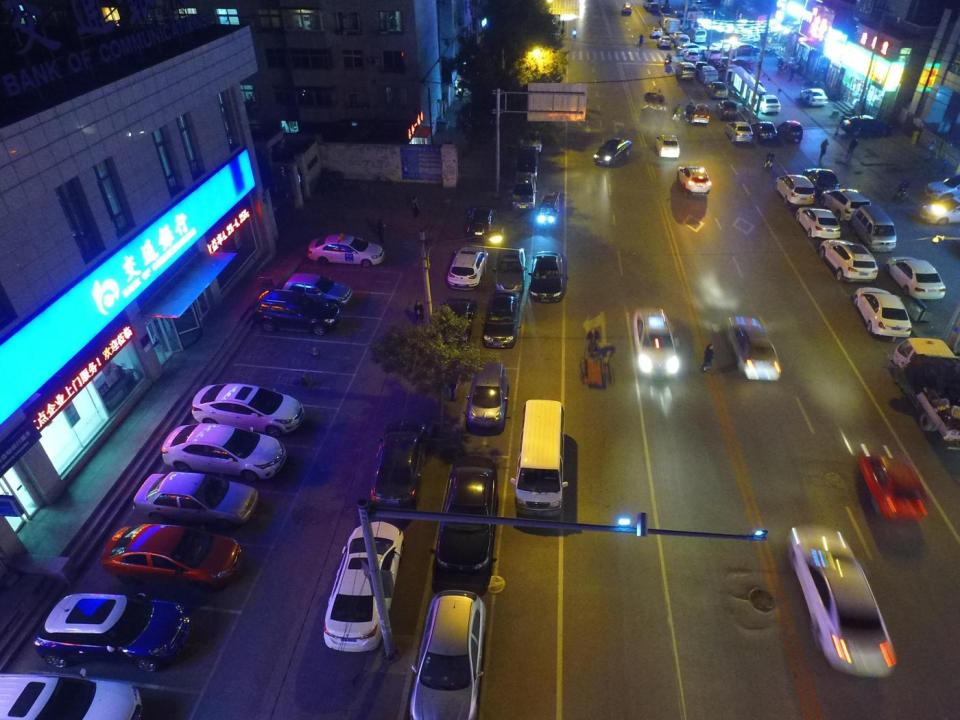car: (788, 525, 896, 679), (32, 592, 196, 668), (322, 522, 403, 652), (405, 590, 485, 718), (101, 524, 241, 592), (126, 472, 259, 535), (162, 423, 295, 482), (435, 450, 497, 570), (6, 673, 143, 720), (371, 421, 424, 529), (192, 386, 304, 437), (858, 439, 924, 523), (252, 290, 339, 338), (631, 305, 685, 381), (730, 314, 780, 384), (852, 286, 910, 341), (467, 354, 508, 430), (307, 233, 384, 272), (819, 237, 878, 286), (886, 256, 945, 300), (284, 275, 354, 309), (852, 204, 898, 252), (486, 294, 523, 349), (435, 298, 476, 346), (530, 250, 569, 300), (820, 189, 871, 222), (797, 203, 841, 239), (452, 246, 487, 290), (494, 245, 526, 293), (593, 132, 634, 167), (776, 175, 816, 207), (842, 112, 894, 135), (676, 160, 711, 194), (467, 206, 499, 240), (804, 167, 838, 193), (538, 191, 560, 231), (516, 152, 539, 186), (511, 174, 535, 206), (726, 122, 754, 145), (751, 121, 777, 145), (777, 119, 803, 142), (800, 87, 829, 107), (658, 134, 682, 157), (756, 94, 780, 115), (520, 128, 539, 154), (716, 99, 736, 118), (693, 103, 711, 124), (729, 43, 762, 54), (707, 82, 728, 99), (744, 80, 766, 96), (722, 60, 752, 71), (676, 43, 704, 54), (710, 38, 736, 48), (704, 46, 722, 60), (686, 28, 706, 40), (694, 60, 707, 77), (656, 35, 671, 49), (763, 45, 777, 58), (674, 34, 688, 46), (660, 2, 672, 14), (778, 61, 788, 75), (650, 27, 662, 37), (621, 3, 631, 14), (642, 1, 653, 8), (650, 4, 658, 12)
truck: (891, 337, 959, 452), (660, 16, 680, 33)
van: (509, 398, 568, 521), (676, 60, 694, 81), (700, 66, 718, 84)
